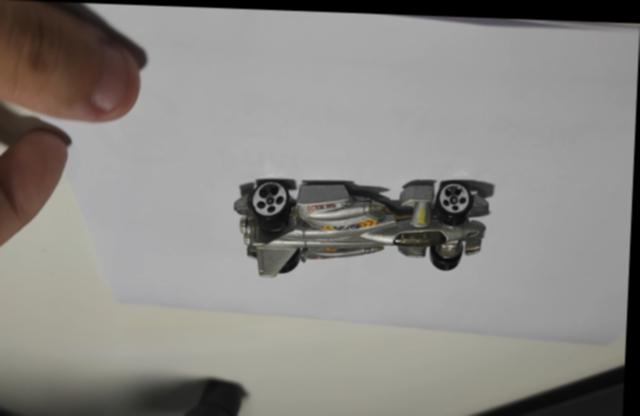05_DC121: (236, 174, 498, 274)
